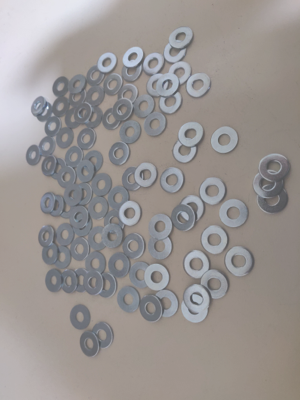circle: (257, 184, 290, 214), (258, 154, 290, 183), (253, 170, 285, 199), (225, 247, 255, 277), (220, 199, 249, 228), (199, 177, 228, 206), (201, 225, 229, 255), (211, 126, 240, 154), (201, 270, 229, 299), (182, 295, 210, 323), (184, 250, 211, 279), (171, 204, 198, 233), (179, 195, 206, 223), (145, 263, 171, 291), (172, 137, 198, 164), (184, 285, 211, 311), (147, 235, 174, 261), (155, 290, 180, 318), (140, 295, 165, 323), (160, 167, 185, 195), (179, 121, 205, 147), (117, 286, 141, 314), (118, 199, 142, 227), (92, 321, 115, 350), (163, 39, 188, 64), (149, 214, 173, 240), (158, 91, 184, 115), (130, 262, 153, 289), (187, 73, 211, 98), (107, 185, 131, 210), (168, 61, 193, 85), (144, 112, 168, 137), (133, 94, 157, 119), (108, 252, 131, 278), (118, 120, 142, 144), (157, 73, 181, 97), (146, 73, 170, 97), (142, 52, 166, 76), (135, 163, 158, 188), (108, 141, 131, 166), (123, 234, 146, 259), (79, 331, 101, 357), (69, 237, 91, 263), (101, 107, 124, 131), (95, 273, 118, 297), (169, 27, 194, 49), (70, 305, 91, 331), (123, 167, 144, 192), (89, 226, 110, 251), (83, 270, 103, 296), (44, 268, 64, 294), (113, 98, 135, 121), (85, 252, 107, 275), (102, 224, 123, 248), (72, 268, 92, 293), (69, 206, 91, 228), (84, 85, 106, 107), (83, 106, 104, 129), (88, 197, 109, 220), (102, 73, 123, 96), (92, 172, 112, 196), (60, 269, 79, 294), (97, 52, 118, 74), (67, 73, 88, 95), (118, 84, 139, 106), (123, 47, 145, 68), (122, 60, 143, 82), (86, 64, 106, 87), (52, 95, 72, 118), (64, 183, 83, 206), (77, 160, 96, 183), (77, 128, 96, 151), (84, 150, 103, 173), (56, 223, 75, 246), (53, 246, 72, 269), (42, 242, 60, 266), (56, 127, 75, 149), (58, 166, 77, 188), (65, 146, 84, 168), (38, 225, 56, 248), (74, 103, 93, 124), (35, 101, 53, 123), (44, 115, 62, 137), (48, 195, 66, 217), (50, 158, 68, 180), (52, 76, 70, 97), (26, 145, 42, 167), (40, 192, 56, 214), (42, 155, 58, 177), (39, 137, 56, 157), (31, 96, 47, 117)
